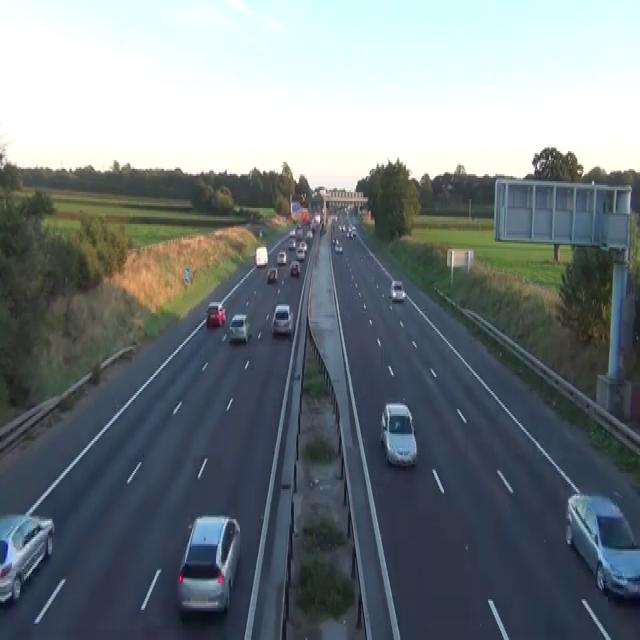Car: (565, 492, 639, 601), (176, 514, 240, 615), (0, 512, 55, 604), (380, 402, 417, 468), (271, 304, 293, 334), (229, 313, 248, 343), (206, 301, 226, 327), (390, 279, 405, 301), (266, 266, 278, 282), (310, 213, 320, 231), (289, 260, 300, 276), (276, 249, 286, 265), (295, 224, 303, 240), (301, 210, 310, 224), (296, 246, 305, 260), (319, 222, 326, 235), (334, 242, 343, 252), (288, 238, 296, 249), (346, 226, 353, 238), (300, 192, 307, 204), (305, 229, 312, 240), (301, 240, 307, 251), (310, 221, 316, 231), (288, 228, 295, 236), (351, 224, 356, 235), (332, 235, 337, 245), (342, 222, 347, 231), (259, 230, 262, 238)
Truck: (255, 245, 268, 267)
